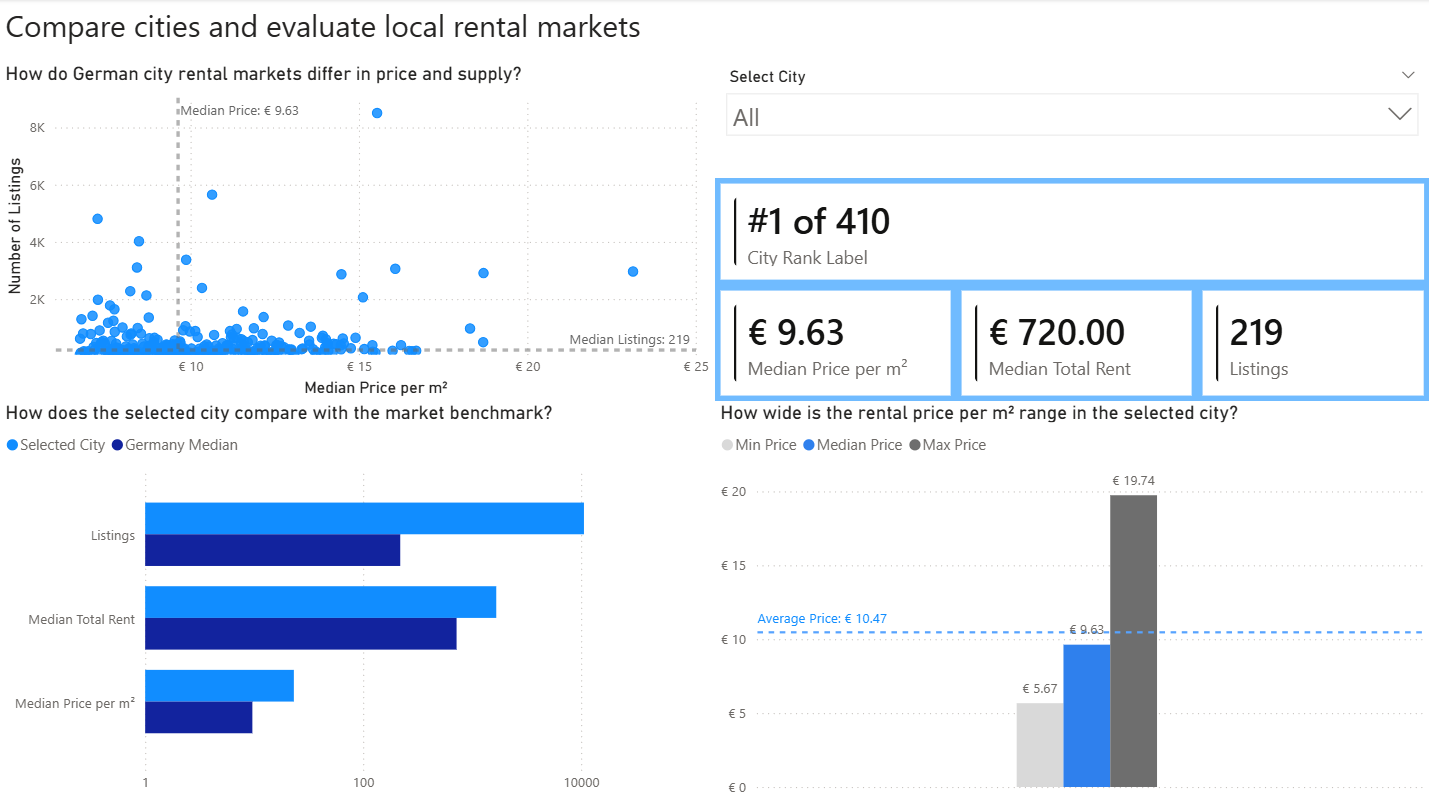

What the dashboard file says about the page in this screenshot:
{"tool":"powerbi","page":{"name":"City Deep Dive","canvas":[1280,720],"ordinal":1},"visuals":[{"type":"cardVisual","fields":{"Data":["Median(city_price_summary.median_price_per_m2)"]},"box":[640,256,216,104],"z":0},{"type":"cardVisual","fields":{"Data":["Median(city_price_summary.number_of_listings)"]},"box":[1072,256,208,104],"z":1000},{"type":"cardVisual","fields":{"Data":["Median(city_price_summary.median_total_rent)"]},"box":[856,256,216,104],"z":2000},{"type":"textbox","box":[0,0,640,56],"z":3000},{"type":"slicer","fields":{"Values":["city_price_summary.city"]},"box":[640,56,640,104],"z":4000},{"type":"scatterChart","title":"How do German city rental markets differ in price and supply?","fields":{"X":["city_price_summary.median_price_per_m2"],"Y":["Avg(city_price_summary.number_of_listings)"]},"box":[0,56,640,304],"z":5000},{"type":"cardVisual","fields":{"Data":["city_price_summary.City Rank Label"]},"box":[640,160,640,96],"z":6000},{"type":"clusteredColumnChart","title":"How wide is the rental price per m² range in the selected city?","fields":{"Y":["Median(city_price_summary.min_price_per_m2)","Median(city_price_summary.median_price_per_m2)","Median(city_price_summary.max_price_per_m2)"]},"box":[640,360,640,360],"z":7000},{"type":"clusteredBarChart","title":"How does the selected city compare with the market benchmark?","fields":{"Y":["city_price_summary.Selected Comparison Value","city_price_summary.Germany Comparison Value"],"Category":["Comparison Metric.Metric"]},"box":[0,360,640,360],"z":8000}]}

Visuals, with their boxes in screenshot pixels (x1, y1, x2, y2), scaled from the page's 1280x720 canvas onto the 1429x802 screenshot:
cardVisual - Median(city_price_summary.median_price_per_m2): 714 285 956 401
cardVisual - Median(city_price_summary.number_of_listings): 1197 285 1428 401
cardVisual - Median(city_price_summary.median_total_rent): 956 285 1197 401
textbox: 0 0 714 62
slicer - city_price_summary.city: 714 62 1428 178
"How do German city rental markets differ in price and supply?" scatterChart: 0 62 714 401
cardVisual - city_price_summary.City Rank Label: 714 178 1428 285
"How wide is the rental price per m² range in the selected city?" clusteredColumnChart: 714 401 1428 801
"How does the selected city compare with the market benchmark?" clusteredBarChart: 0 401 714 801
